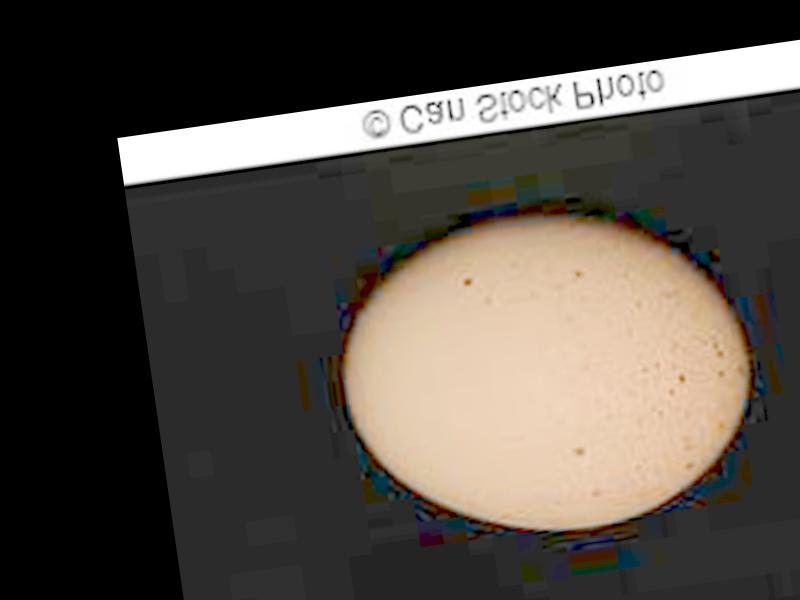Eggs: (325, 187, 764, 557)
